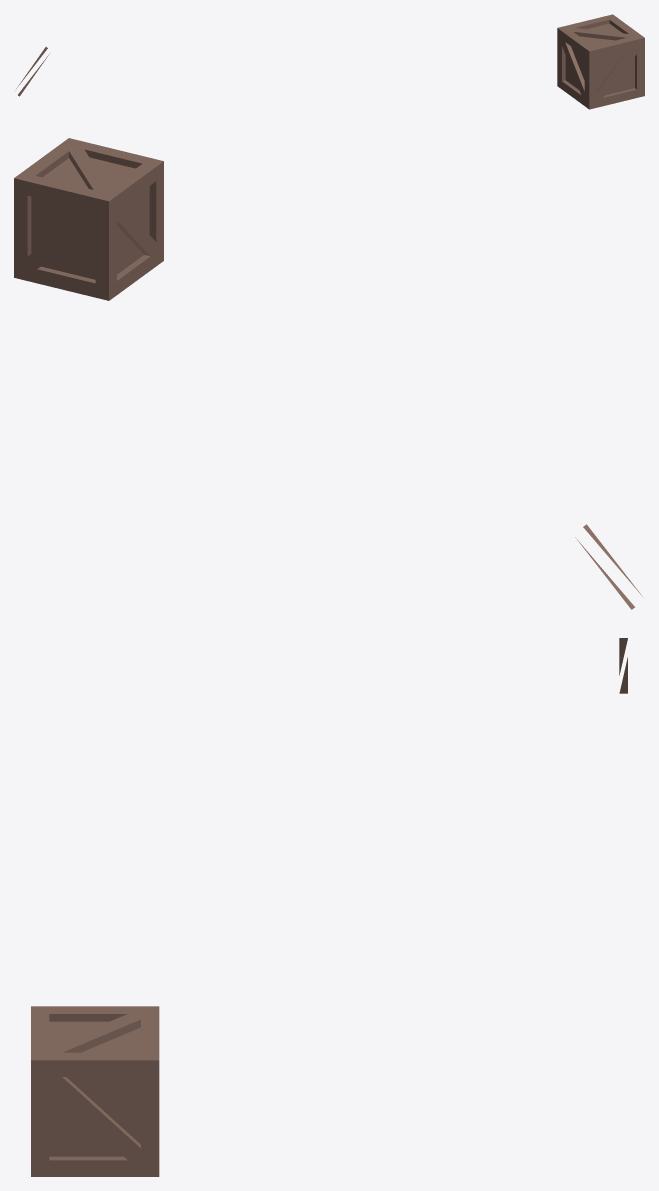
File: crate_original.glb
3 views of the same model, one above another, from view 1: azimuth 30°, elevation 25°; view 2: azimuth 150°, elevation 25°; view 3: azimuth 270°, elevation 25° (orthographic). The views are drawn at different scales.
Parts seen in each view (by area): view 1: rock02_Mesh_007_Base_0.4393; view 2: rock02_Mesh_007_Base_0.4393; view 3: rock02_Mesh_007_Base_0.4393.
Boxes of the visible parts, left/top/right/bottom form: rock02_Mesh_007_Base_0.4393: left=557, top=14, right=644, bottom=109; rock02_Mesh_007_Base_0.4393: left=14, top=138, right=163, bottom=300; rock02_Mesh_007_Base_0.4393: left=31, top=1006, right=159, bottom=1176.
Bounding box in the file's own units: 5.22 × 0.6 × 2.79.
Materials: 1 (1 with a texture image).
